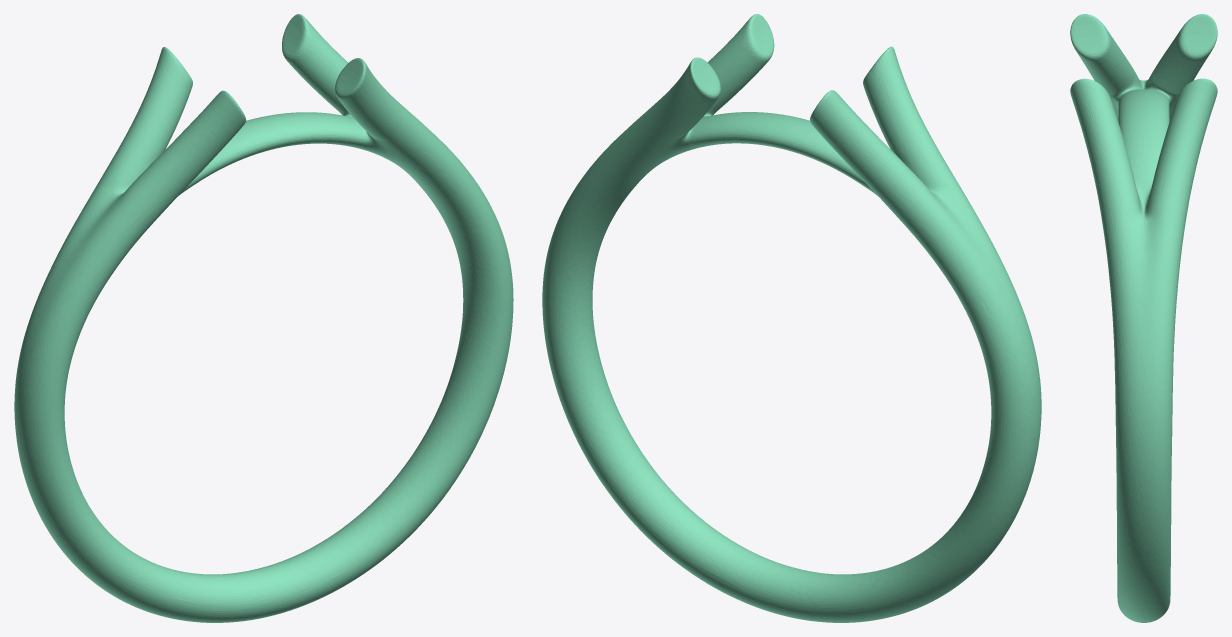
3 renders of one model, left to right at view 1: azimuth 30°, elevation 25°; view 2: azimuth 150°, elevation 25°; view 3: azimuth 270°, elevation 25°, orthographic.
Visible parts, largest first — view 1: Metal02; view 2: Metal02; view 3: Metal02.
Boxes of the visible parts, x1,y1,x2,y2 form: Metal02: (14, 14, 513, 622); Metal02: (542, 14, 1041, 622); Metal02: (1070, 14, 1217, 622).
Size of the model in its own units: 20.9 by 22.87 by 5.55.
